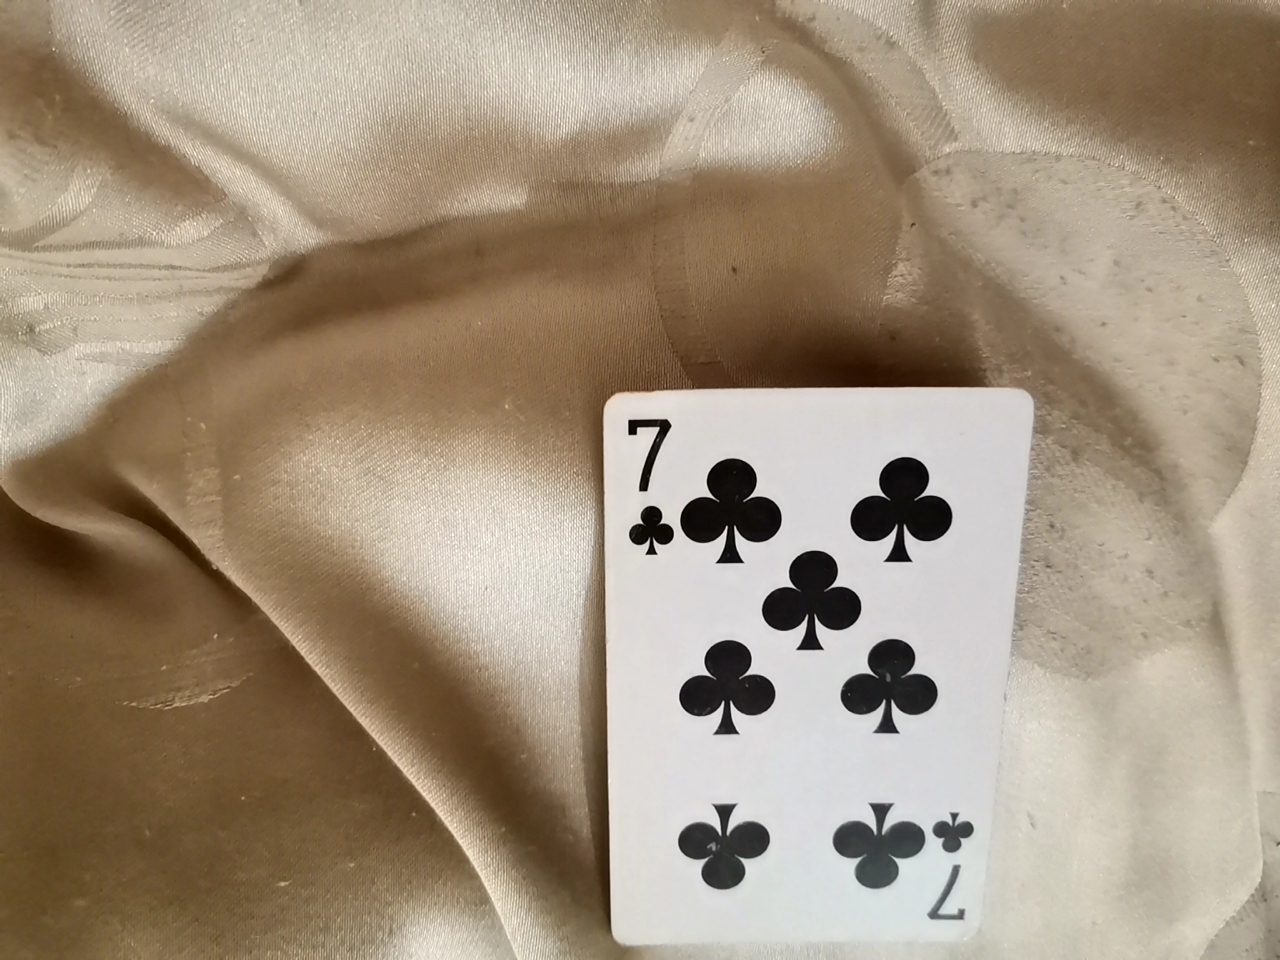mh 7: (586, 386, 1027, 951)
